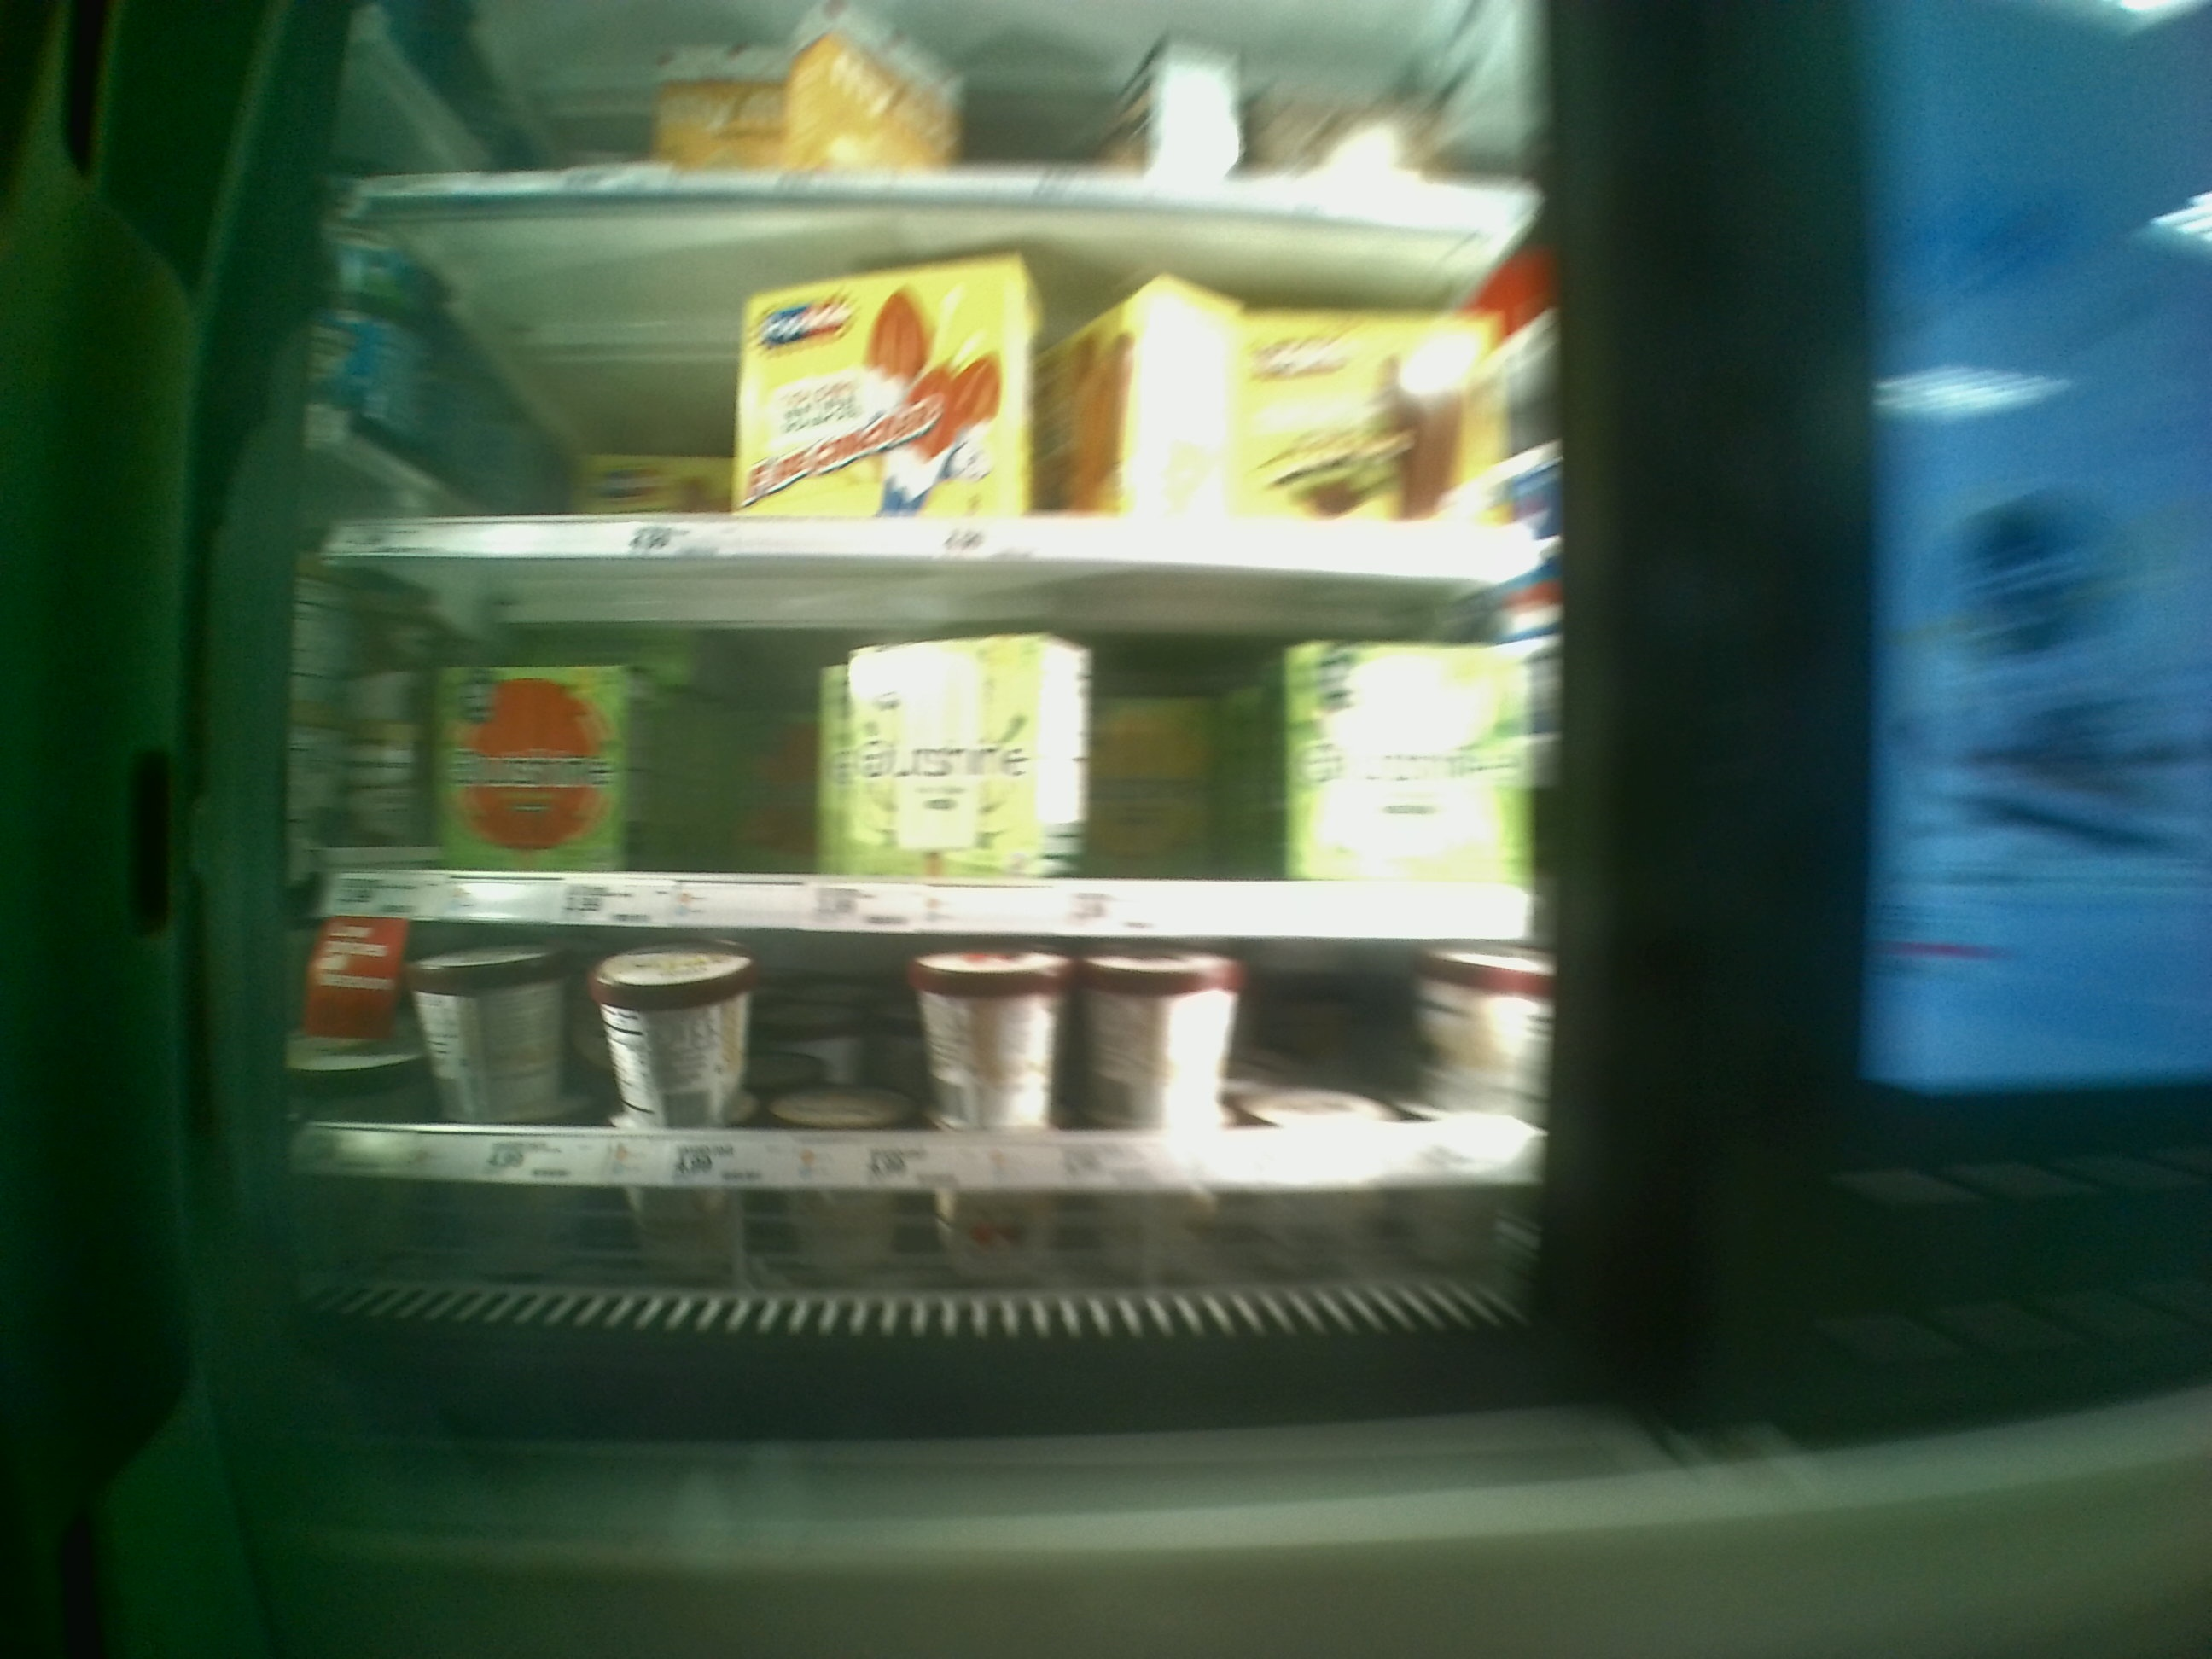ice-cream-shelf: (296, 551, 1548, 922), (296, 922, 1554, 1195)
